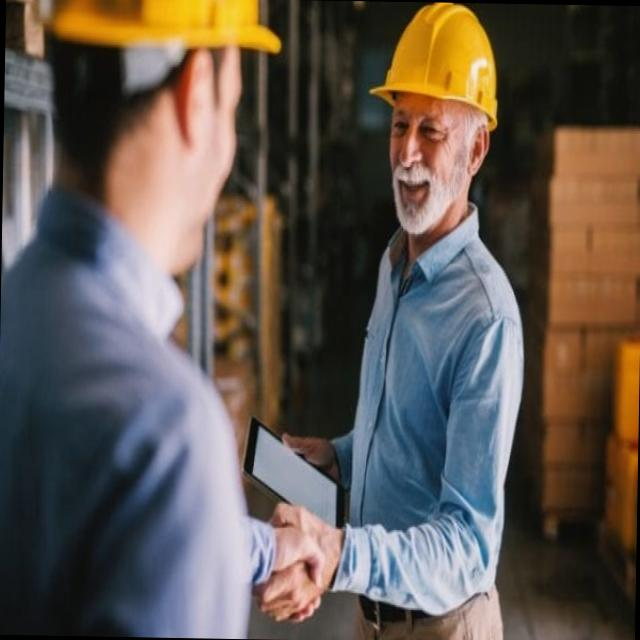helmet: (40, 0, 288, 116), (366, 1, 509, 134)
no-goggles: (372, 102, 472, 159), (172, 76, 255, 142)
no-vest: (0, 284, 253, 637), (339, 233, 526, 600)
